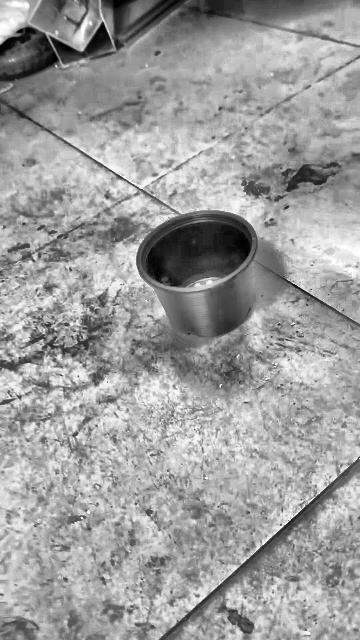pot: (136, 212, 257, 337)
